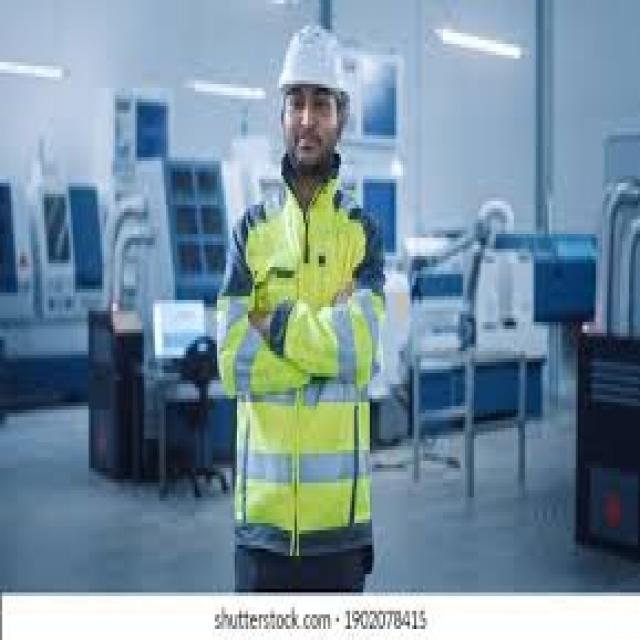Reflective-Jacket: (220, 176, 386, 563)
Safety-Helmet: (274, 15, 358, 106)
